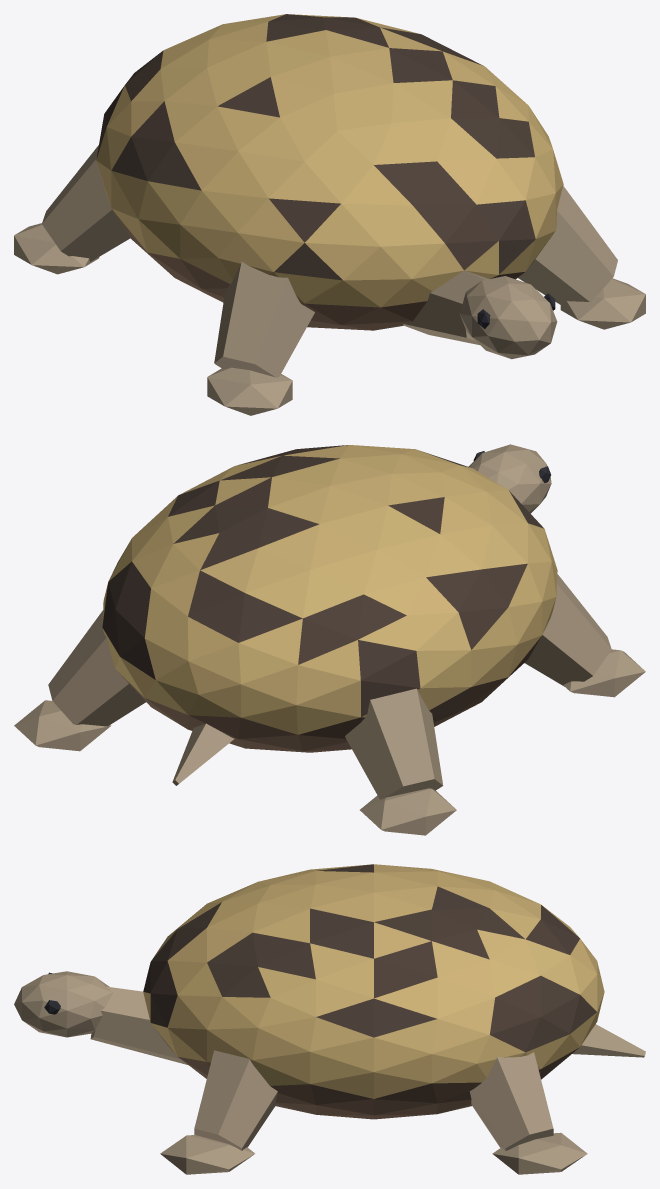
The model's file is Zlatenka.fbx.
3 views of the same model, one above another, from view 1: azimuth 30°, elevation 25°; view 2: azimuth 150°, elevation 25°; view 3: azimuth 270°, elevation 25° (orthographic). The views are drawn at different scales.
Parts seen in each view (by area): view 1: Zlatenka_Shell, Zlatenka_Head; view 2: Zlatenka_Shell, Zlatenka_Head; view 3: Zlatenka_Shell, Zlatenka_Head.
Boxes of the visible parts, box(x1,y1,x2,y2) form: Zlatenka_Shell: box(14, 14, 645, 415); Zlatenka_Head: box(403, 270, 557, 359); Zlatenka_Shell: box(14, 445, 645, 835); Zlatenka_Head: box(468, 444, 551, 513); Zlatenka_Shell: box(143, 864, 645, 1174); Zlatenka_Head: box(14, 971, 188, 1065).
Bounding box in the file's own units: 0.3684 × 0.5479 × 0.1919.
